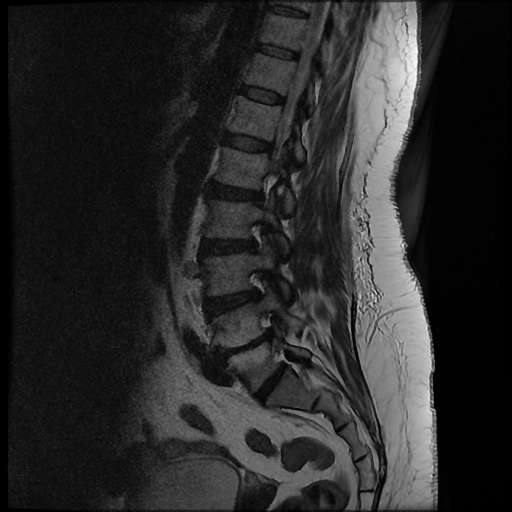LFS0: (247, 165, 282, 213)
LFS1: (239, 262, 275, 308), (239, 218, 273, 261)
